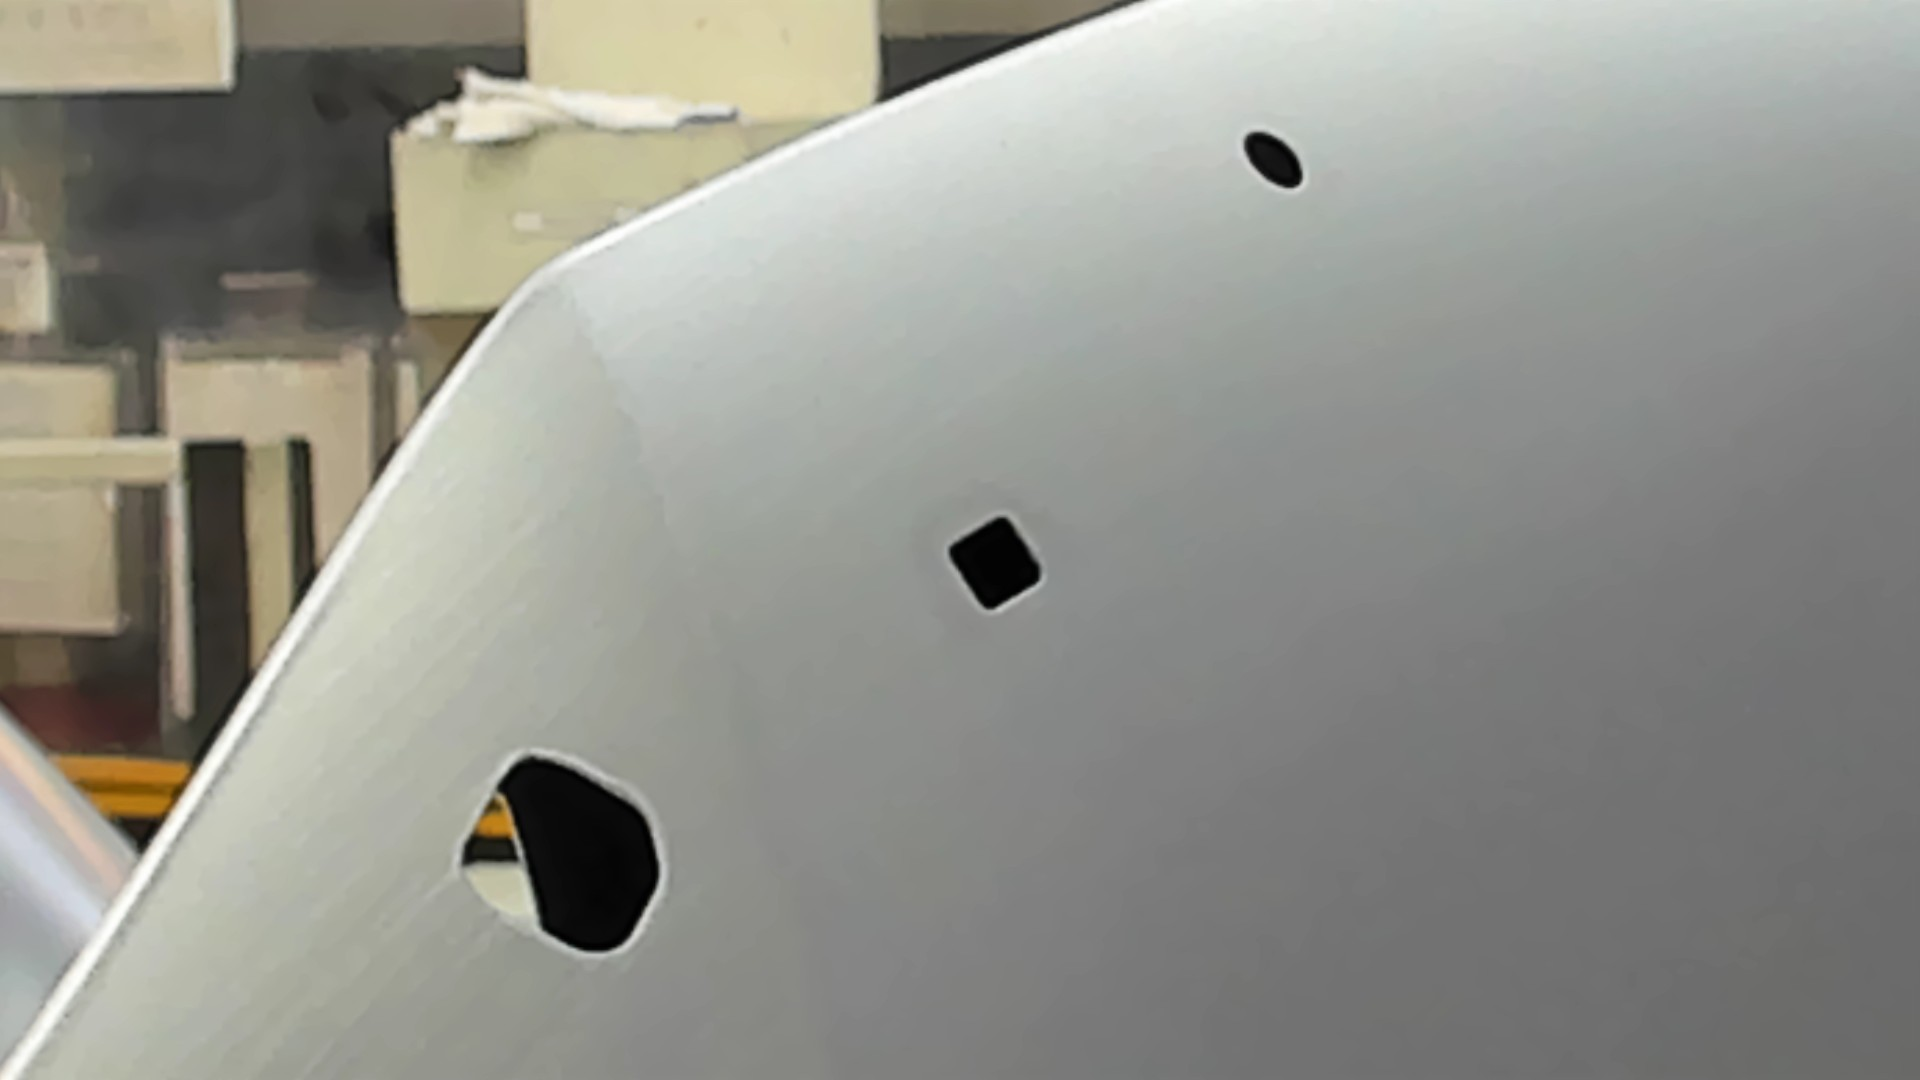chico: (1238, 127, 1309, 196)
grande: (454, 746, 669, 965)
mediano: (948, 509, 1056, 618)
